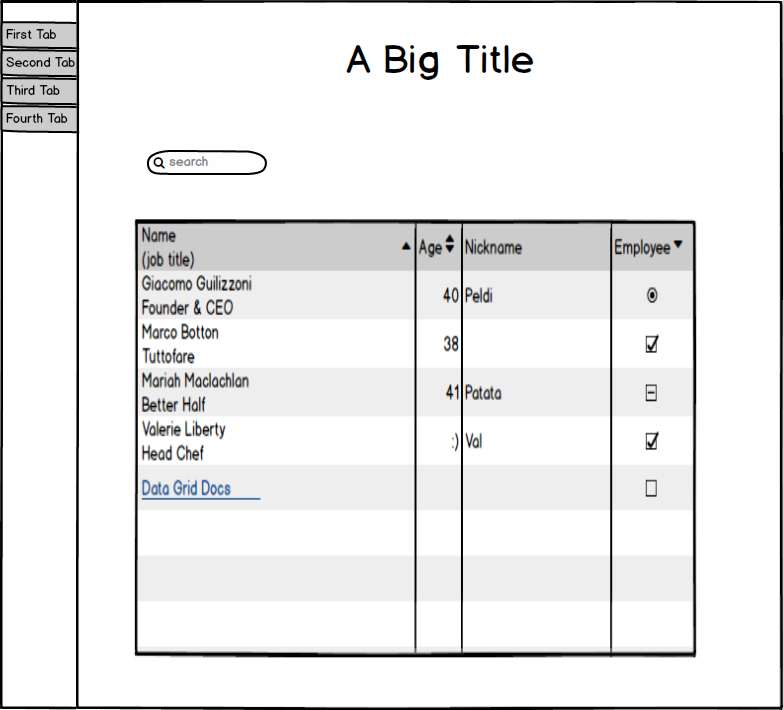h1: (331, 32, 552, 84)
search: (142, 145, 273, 180)
sidebar: (1, 14, 80, 148)
table: (127, 214, 706, 667)
